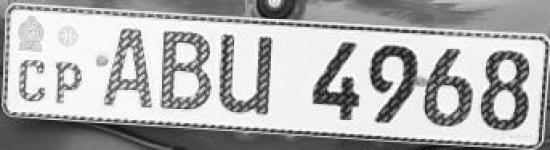4: (297, 35, 365, 126)
6: (424, 43, 478, 136)
8: (480, 44, 540, 140)
9: (368, 38, 424, 131)
A: (100, 25, 160, 112)
B: (160, 28, 215, 118)
C: (15, 55, 49, 105)
P: (52, 57, 87, 109)
U: (216, 31, 286, 117)
